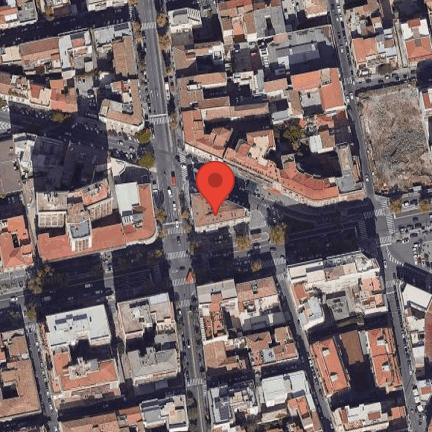area_open: (275, 191, 432, 287), (357, 83, 431, 197), (138, 218, 230, 306), (122, 109, 201, 208), (225, 185, 289, 285), (232, 27, 339, 78), (1, 131, 47, 217), (73, 49, 116, 119)
built: (168, 0, 367, 210), (0, 20, 146, 132), (37, 178, 160, 262), (311, 328, 408, 432), (197, 277, 298, 374), (38, 304, 125, 410), (286, 250, 390, 333), (209, 371, 325, 432), (14, 132, 127, 190), (119, 292, 183, 385), (398, 282, 432, 432), (59, 396, 189, 432), (342, 0, 401, 77), (0, 327, 42, 420), (0, 71, 78, 114), (191, 193, 248, 234), (0, 216, 35, 271), (398, 16, 432, 69), (304, 0, 329, 17)
vegetation_high: (274, 122, 304, 148)
